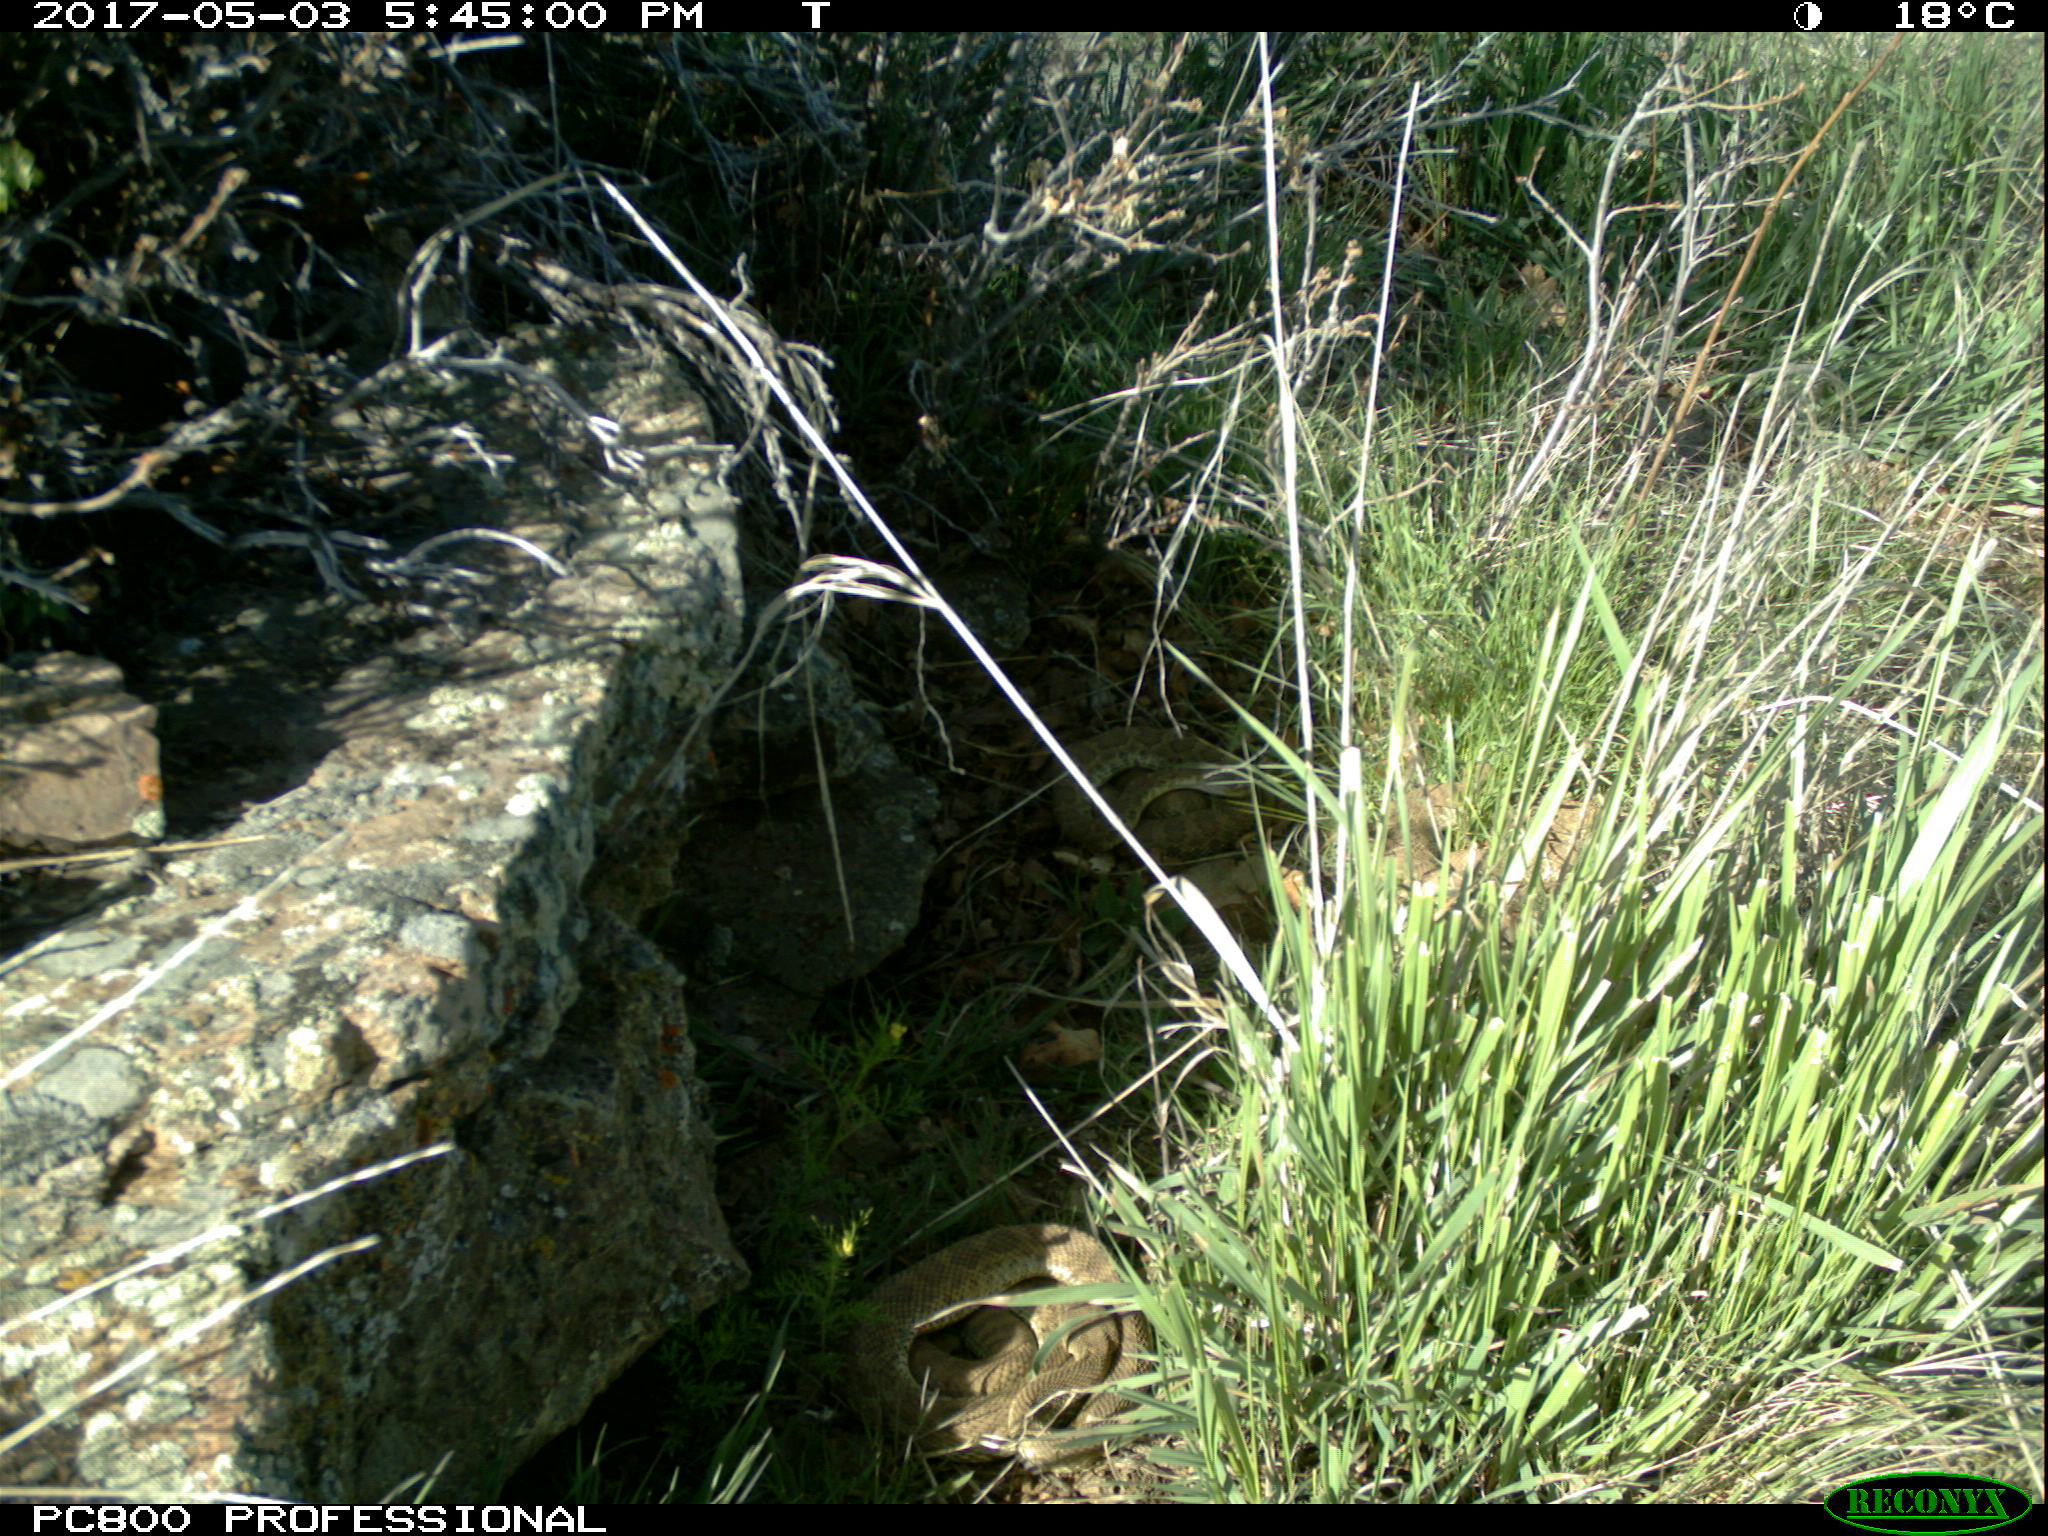snake: (835, 1221, 1168, 1467), (1056, 720, 1287, 862)
